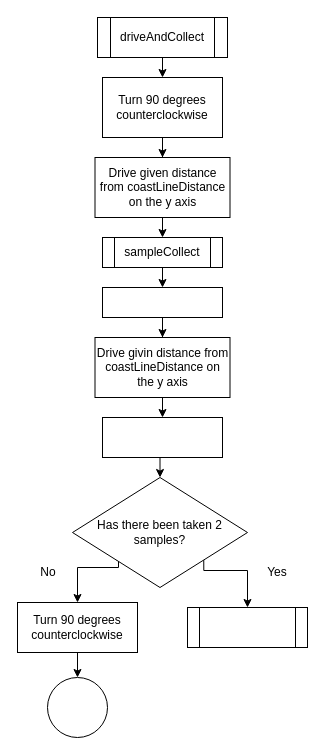
Image size: 325x755. Some labels were removed from this diagram. The shapes that lost their labels are listed below. From the top down, each one's centre as x and y in pixels, then its label:
At point 162,302: "Turn 180 degrees".
At point 162,437: "set stage to 0".
At point 247,627: "returnToBase".
At point 77,707: "Return".
